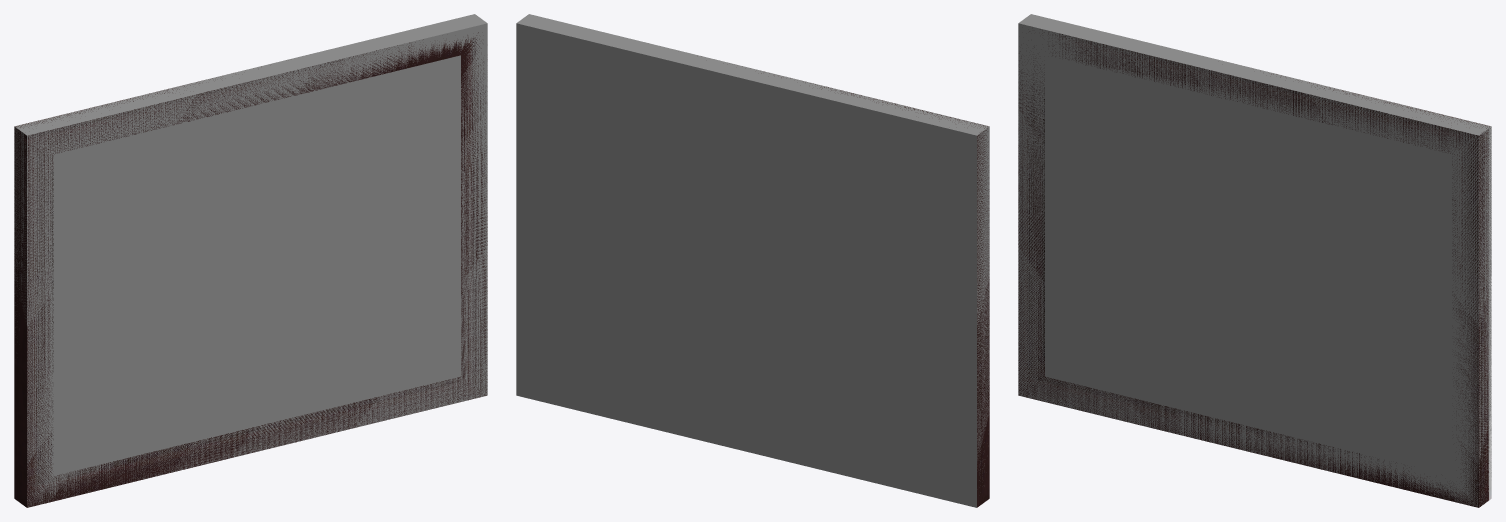
Rendered from picture_02.FBX.
3 renders of one model, left to right at view 1: azimuth 30°, elevation 25°; view 2: azimuth 150°, elevation 25°; view 3: azimuth 330°, elevation 25°, orthographic.
Visible parts, largest first — view 1: bounds, painting_two100; view 2: bounds, painting_two100; view 3: bounds, painting_two100.
Boxes of the visible parts, x1=… form: bounds: x1=14, y1=14, x2=487, y2=507; painting_two100: x1=14, y1=32, x2=487, y2=507; bounds: x1=516, y1=14, x2=989, y2=507; painting_two100: x1=761, y1=71, x2=989, y2=507; bounds: x1=1018, y1=14, x2=1491, y2=507; painting_two100: x1=1018, y1=26, x2=1491, y2=507.
Size of the model in its own units: 93.82 by 72.48 by 4.48.
